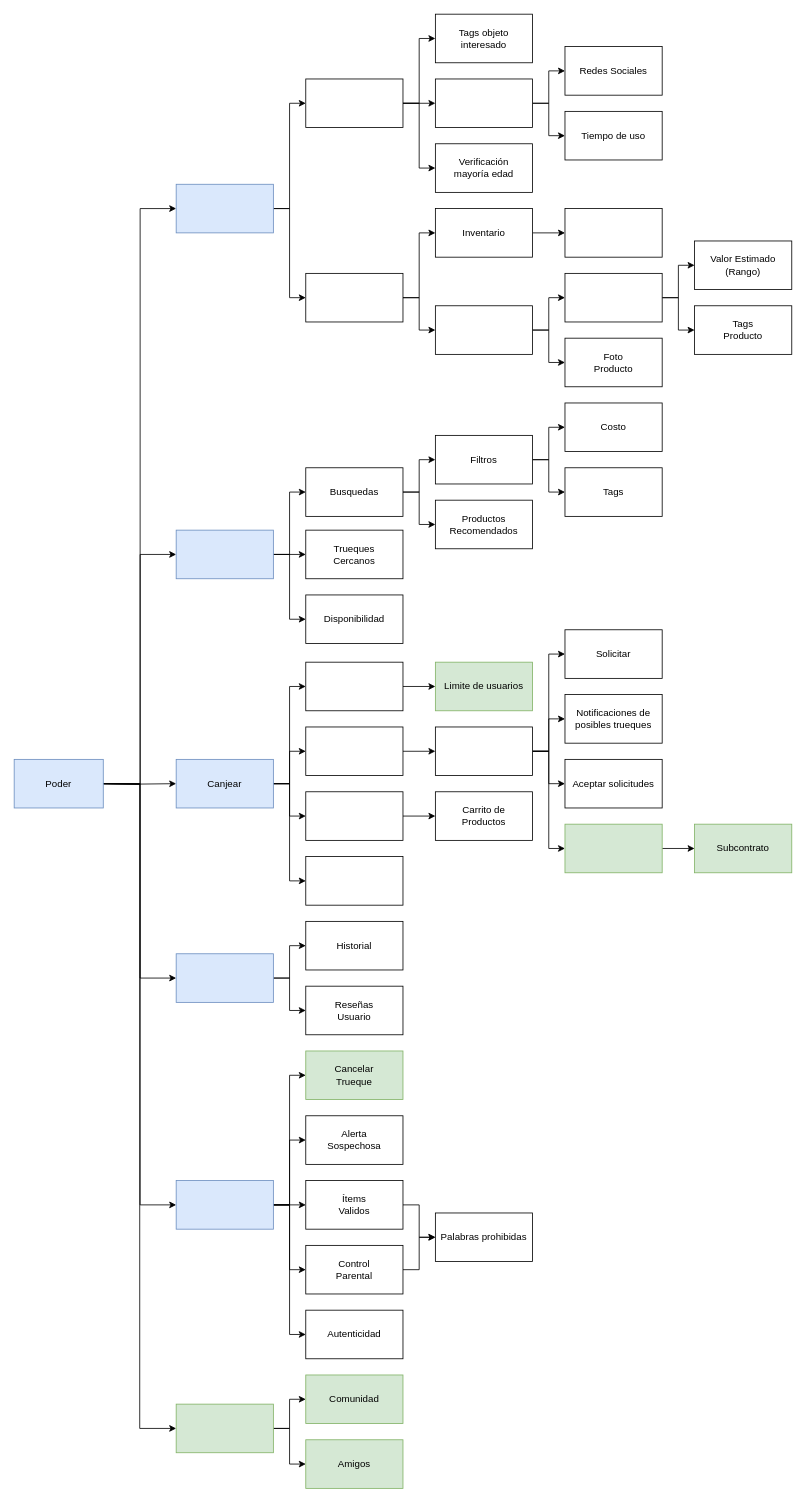
Some shapes in this 806 by 1503 pixel diagram are drawn without their labels. The shapes that lost their labels are listed below. From the top down, each one's centre as x and y in pixels, then its label:
the point at 354,103: Registrar Usuario
the point at 484,103: Actualizar o Añadir info
the point at 224,208: Registrar
the point at 613,232: Eliminar Producto
the point at 354,297: Añadir Producto
the point at 613,297: Describir
the point at 484,329: Registrar Producto
the point at 224,554: Buscar
the point at 354,686: Canjes de Múltiples Usuarios
the point at 354,751: Asesoría Oportuna
the point at 484,751: Estado del Trueque
the point at 354,815: Canjear varios Productos
the point at 613,848: Envios
the point at 354,880: Comunicación (Chat)
the point at 224,977: Calificar
the point at 224,1204: Tener Seguridad
the point at 224,1428: Circulos de intercambio
